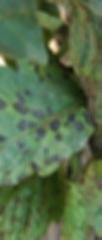Tomato leaf bacterial spot: (0, 78, 102, 214), (48, 0, 102, 163), (0, 140, 85, 240)
